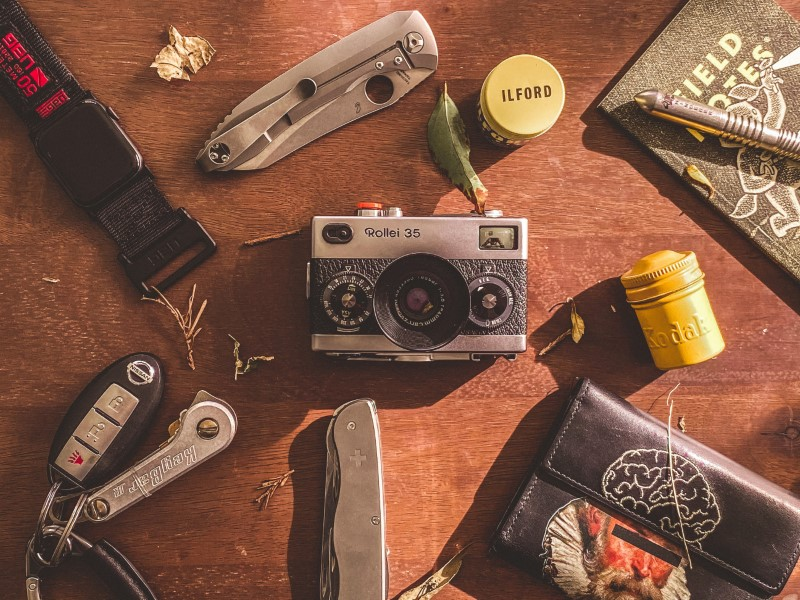carkey: (40, 344, 170, 492)
